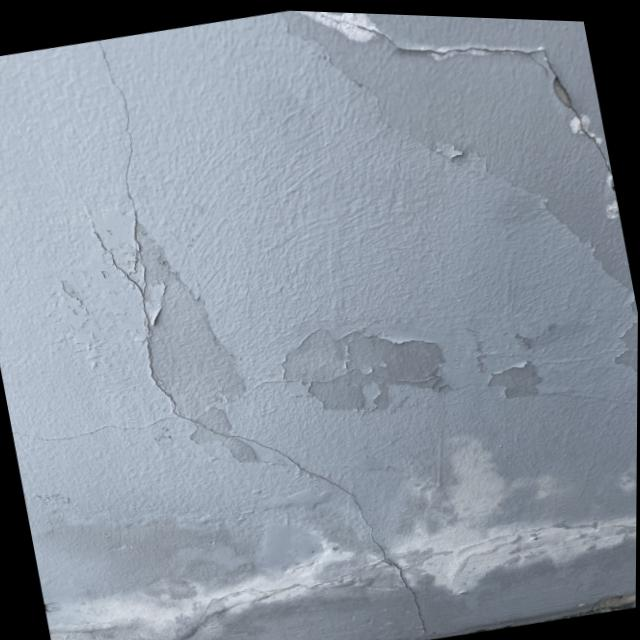Crack: (39, 1, 446, 640), (284, 8, 608, 200)
